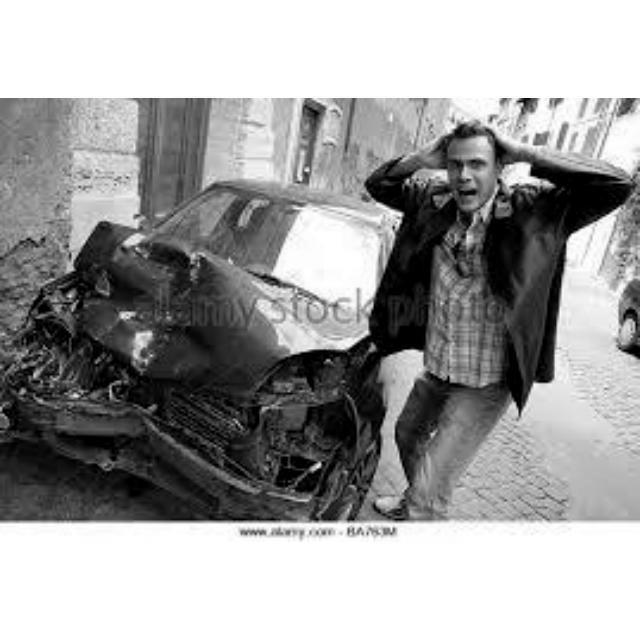Headlight-damage: (262, 375, 359, 448)
bonnet-dent: (98, 224, 338, 364)
front-bumper-dent: (65, 370, 231, 491)
